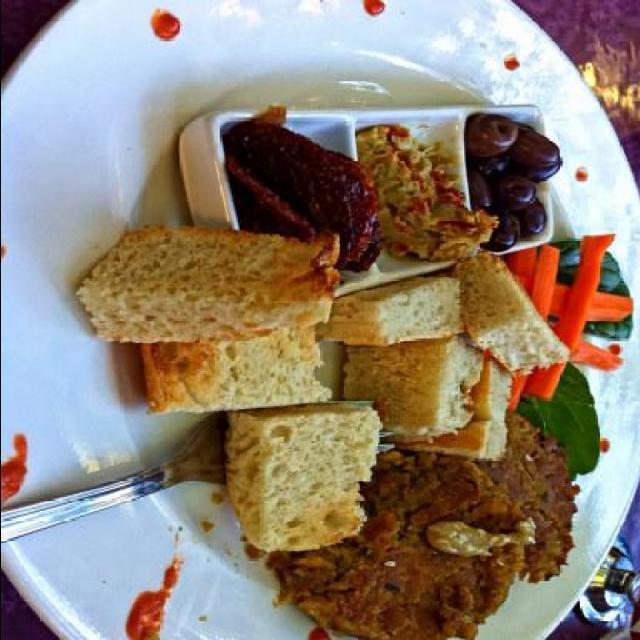Bread: (73, 120, 569, 556), (217, 402, 389, 556)
